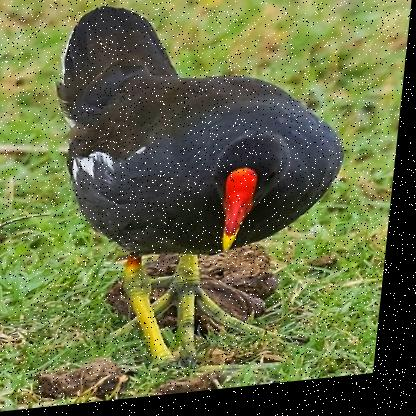Burung: (33, 0, 360, 377)
